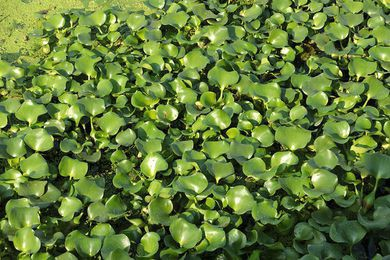water_hyacinth: (2, 10, 386, 258)
